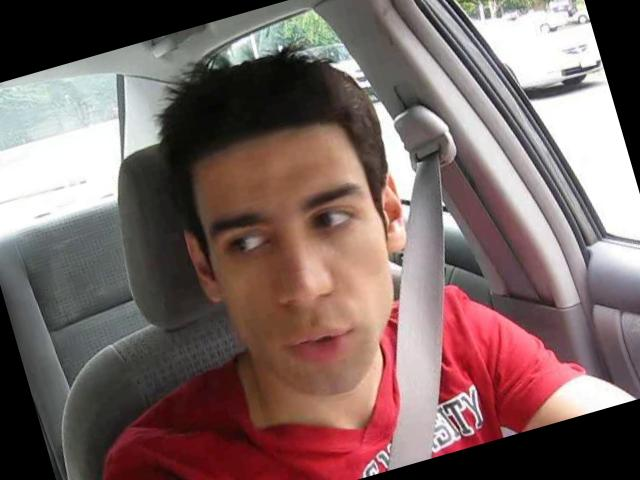eye_open: (302, 194, 364, 243), (218, 221, 276, 264)
face: (198, 152, 426, 420)
